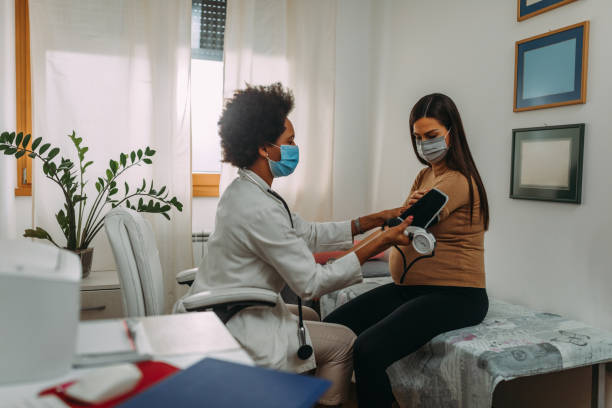with mask: (233, 105, 312, 185), (408, 101, 455, 165)
